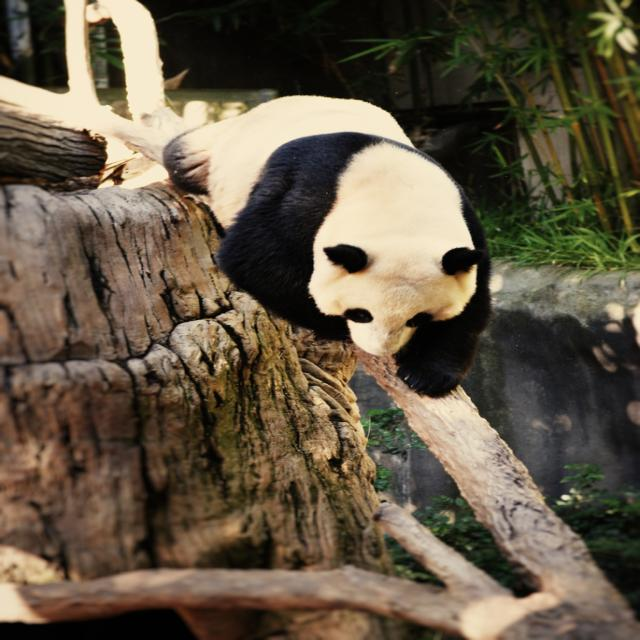panda: (167, 92, 491, 398)
